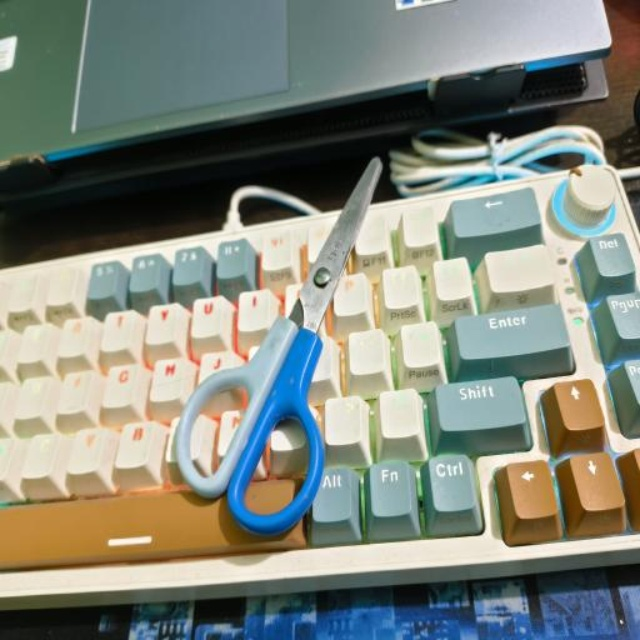scissor: (171, 152, 386, 534)
